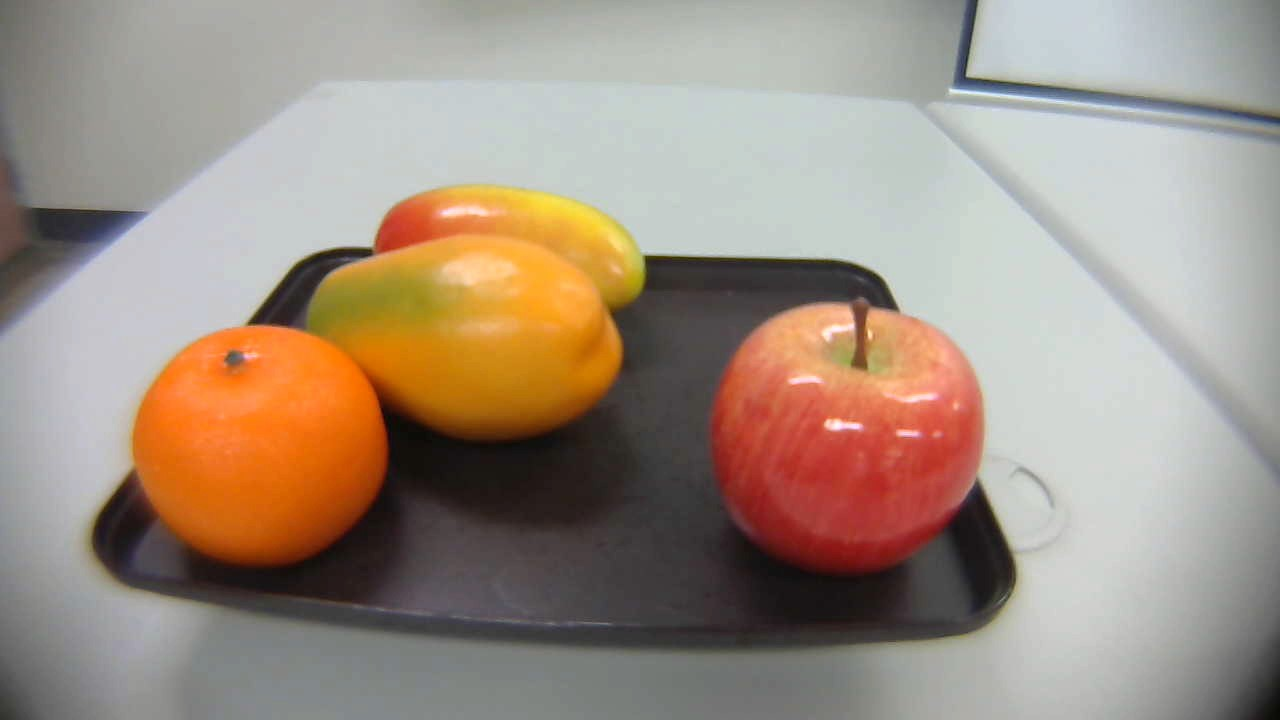orange: (133, 324, 395, 583)
papya: (308, 233, 642, 459)
red apple: (703, 289, 995, 576)
red mango: (377, 178, 668, 336)
